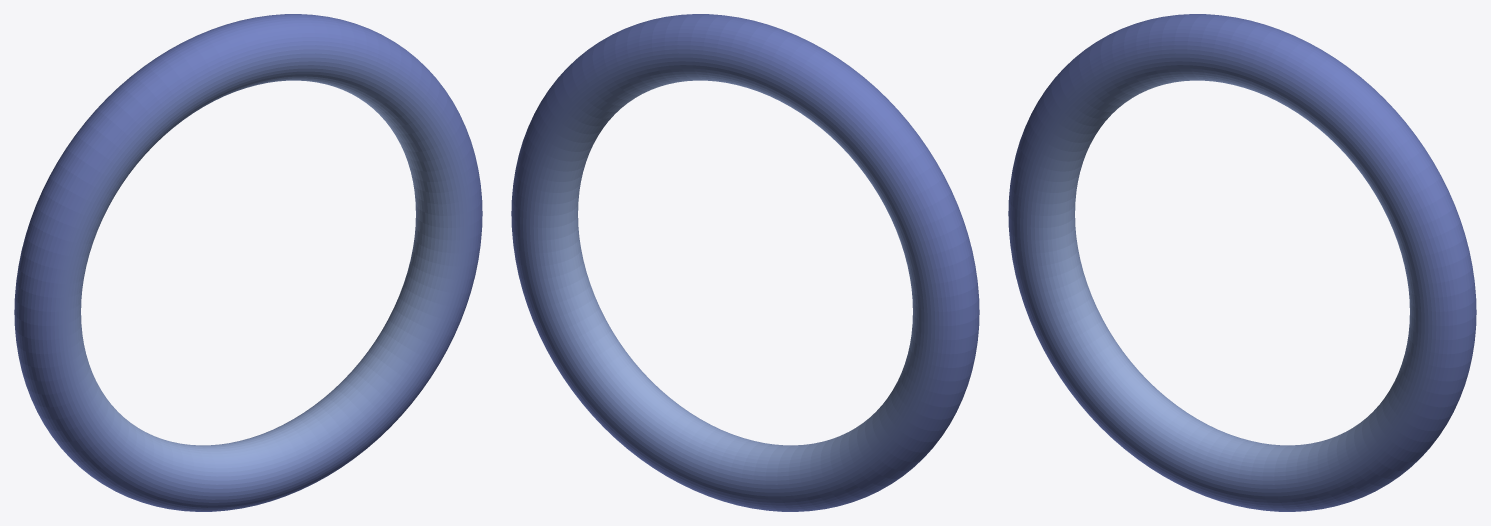
3 renders of one model, left to right at view 1: azimuth 30°, elevation 25°; view 2: azimuth 150°, elevation 25°; view 3: azimuth 330°, elevation 25°, orthographic.
Visible parts, largest first — view 1: world; view 2: world; view 3: world.
Part boxes in pixels (box(x1,y1,x2,y2)): world: box(14, 14, 482, 511); world: box(511, 14, 979, 511); world: box(1008, 14, 1476, 511).
Bounding box in the file's own units: 24.4 × 24.4 × 3.06.
